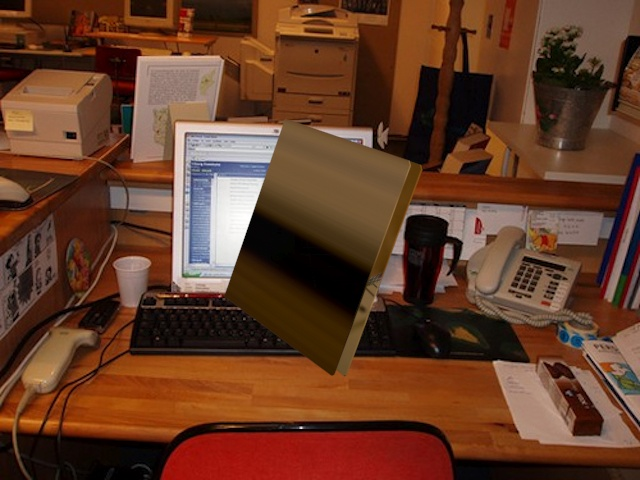ring_binder: (224, 112, 432, 385)
